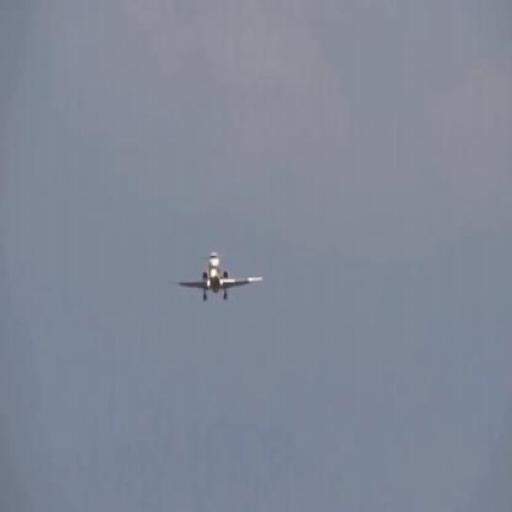aircraft: (168, 242, 264, 303)
